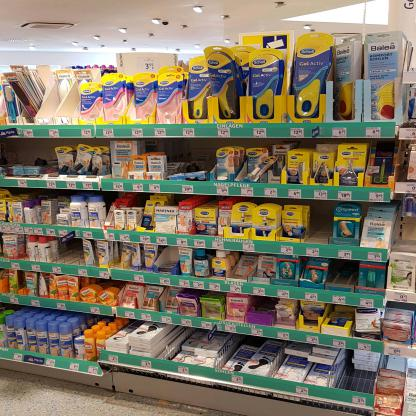Void: (172, 142, 210, 170), (5, 144, 51, 160), (348, 361, 371, 390), (332, 263, 354, 293), (312, 204, 330, 238), (57, 239, 82, 263)
